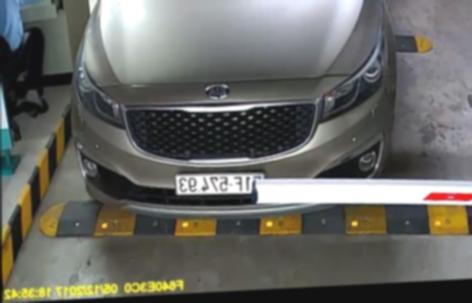License_Plate: (171, 168, 268, 201)
